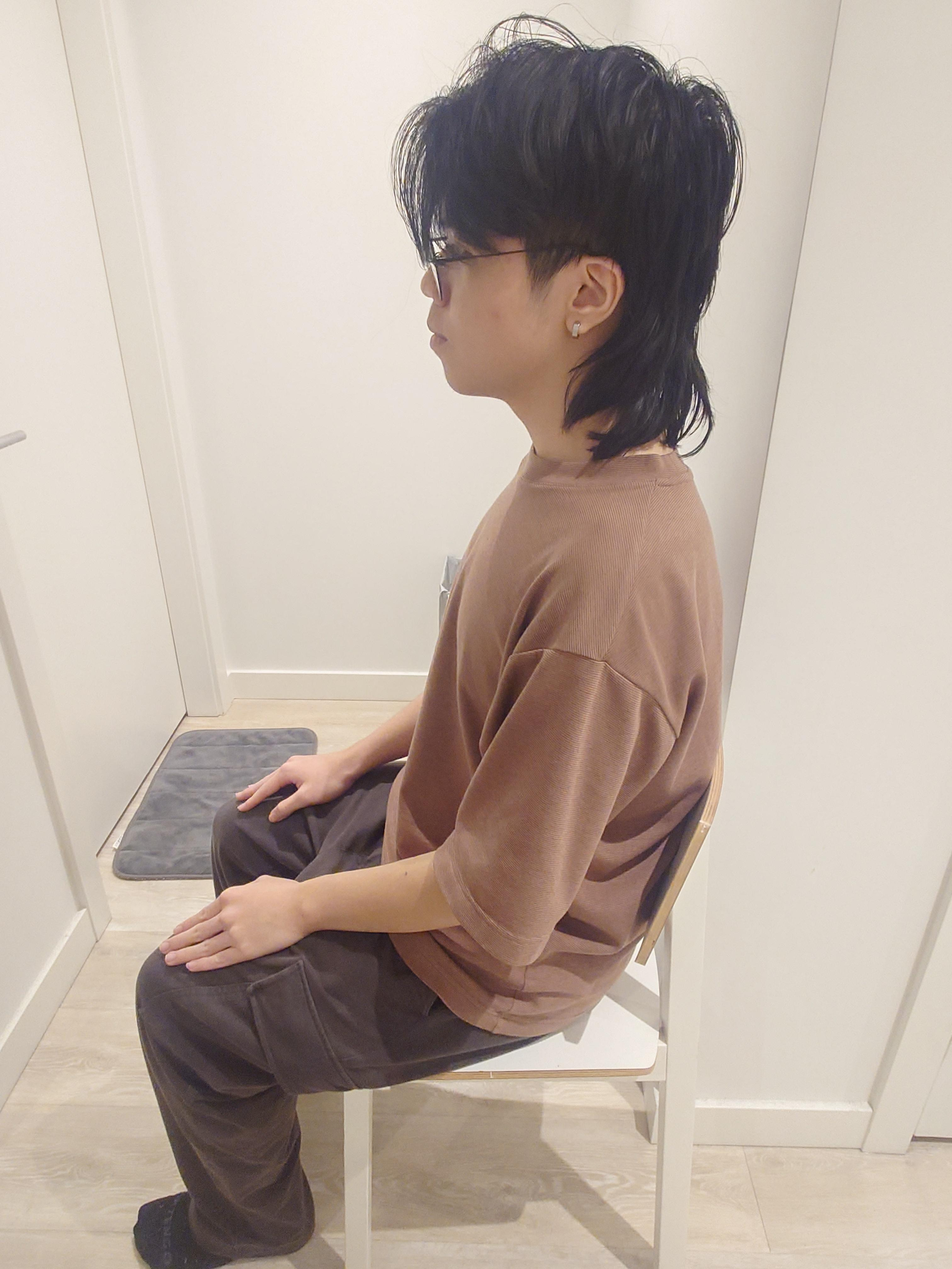GoodPosture: (131, 36, 736, 1269)
